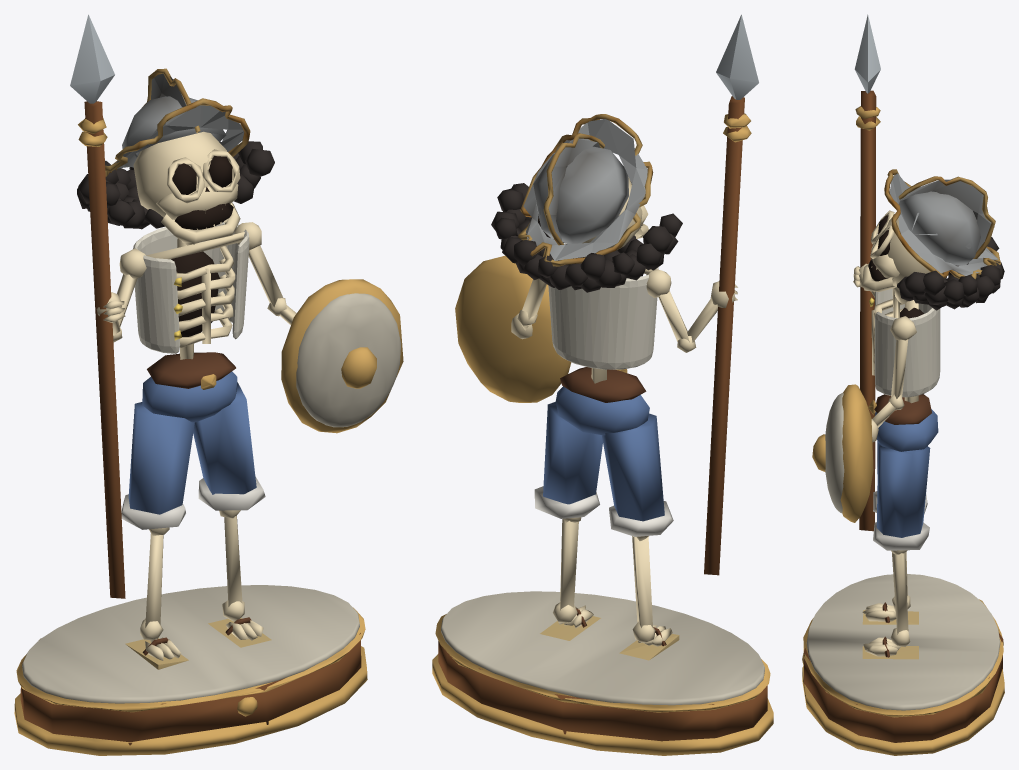
Rendered from pirate_helmet_knight_l1.glb.
3 renders of one model, left to right at view 1: azimuth 30°, elevation 25°; view 2: azimuth 150°, elevation 25°; view 3: azimuth 270°, elevation 25°, orthographic. The views are drawn at different scales.
Visible parts, largest first — view 1: FixedDetails, WoodBody, BrassTrim; view 2: FixedDetails, WoodBody, BrassTrim; view 3: FixedDetails, WoodBody, BrassTrim.
Boxes of the visible parts, left/top/right/bottom form: FixedDetails: left=20, top=14, right=361, bottom=745; WoodBody: left=22, top=222, right=400, bottom=703; BrassTrim: left=14, top=68, right=403, bottom=755; FixedDetails: left=438, top=14, right=767, bottom=741; WoodBody: left=441, top=243, right=764, bottom=705; BrassTrim: left=432, top=113, right=773, bottom=755; FixedDetails: left=804, top=14, right=1004, bottom=742; WoodBody: left=806, top=288, right=1000, bottom=710; BrassTrim: left=802, top=106, right=1004, bottom=755.
Bounding box in the file's own units: 0.3394 × 0.6758 × 0.1998.
